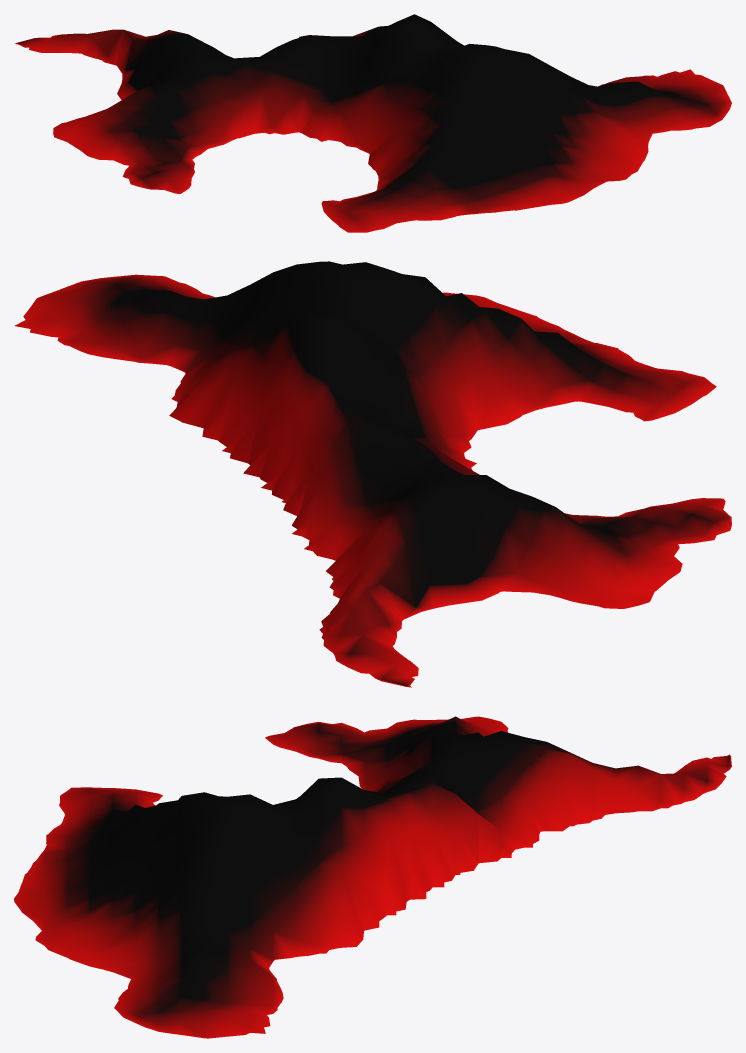
The model's file is DebrisPileV2.fbx.
The picture shows the model from 3 angles, top to bottom: view 1: azimuth 30°, elevation 25°; view 2: azimuth 150°, elevation 25°; view 3: azimuth 270°, elevation 25°; orthographic projection. The views are drawn at different scales.
Parts seen in each view (by area): view 1: DebrisPileV2; view 2: DebrisPileV2; view 3: DebrisPileV2.
Part boxes in pixels (x1,y1,x2,y2): DebrisPileV2: (14,14,731,232); DebrisPileV2: (14,261,731,687); DebrisPileV2: (14,716,731,1038).
Bounding box in the file's own units: 501 × 78.73 × 472.
